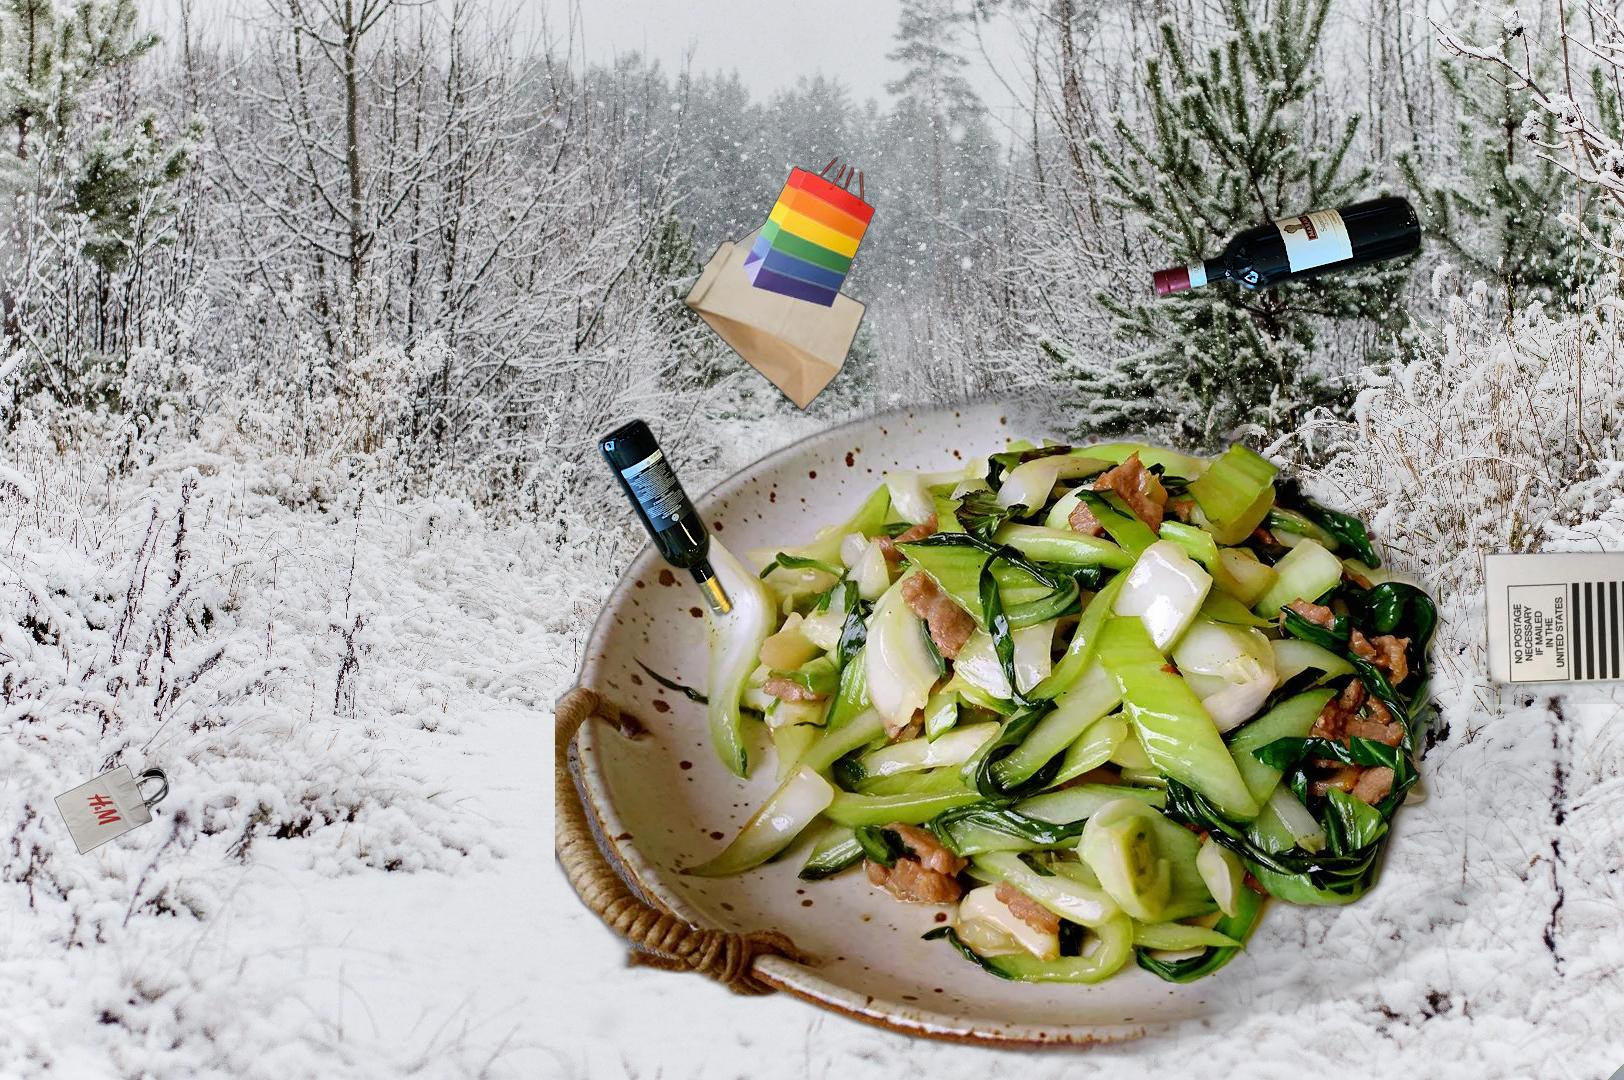biological: (555, 345, 1624, 1067)
glass: (1147, 190, 1426, 303), (594, 413, 737, 626)
paper: (1479, 542, 1624, 704)
paper-bag: (679, 154, 878, 413), (51, 762, 172, 856)
plastic-bag: (1579, 1043, 1624, 1080)
shoes: (963, 856, 1188, 1014)
